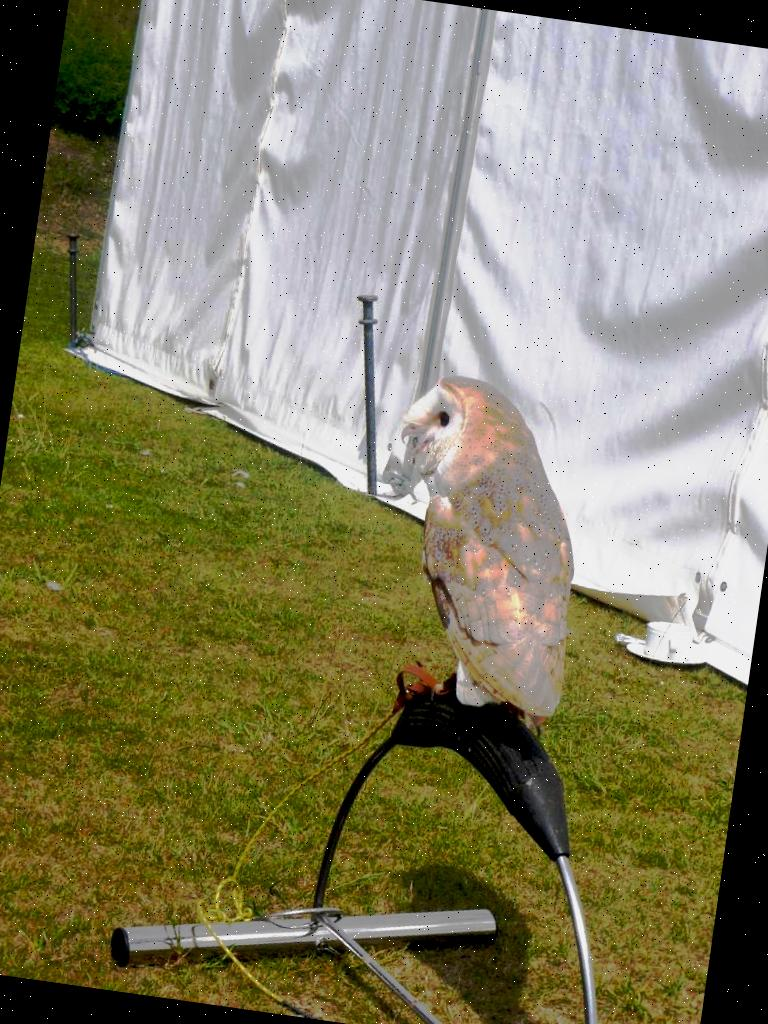Owl: (369, 369, 621, 715)
